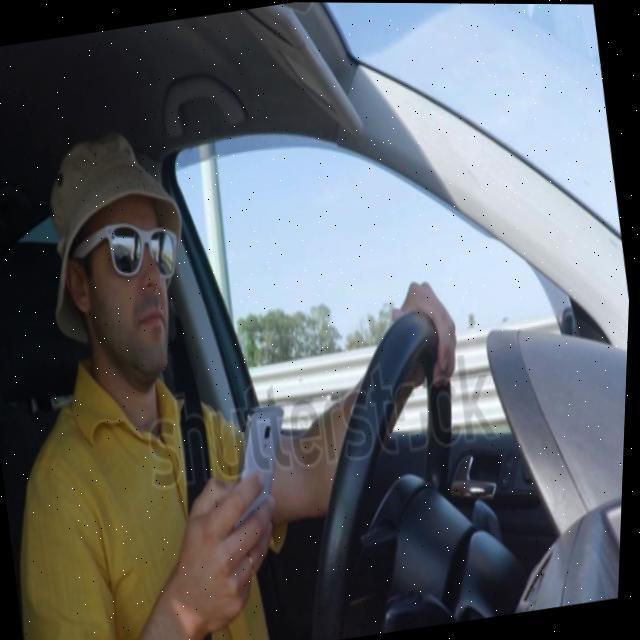PhoneCall: (222, 401, 305, 544)
